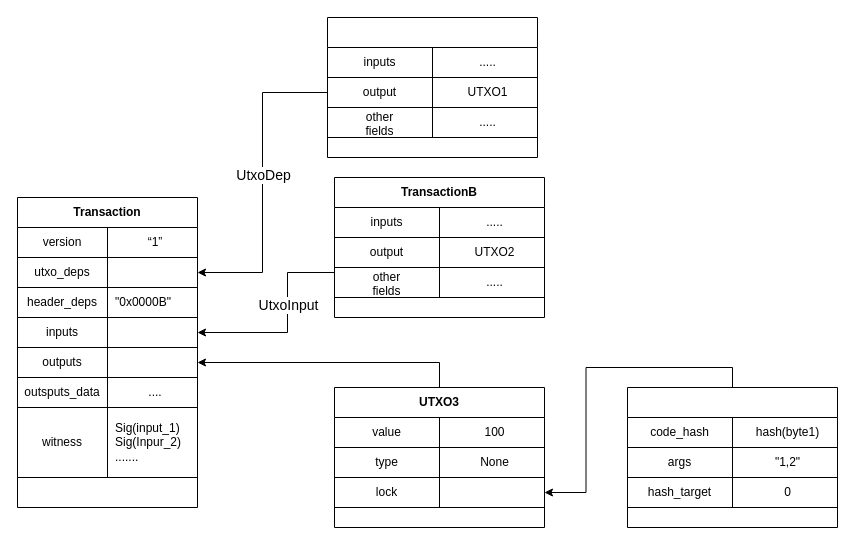
The diagram is 855 pixels wide and 545 high, and some of its shapes have lost their labels. Here are the shapes that lost their labels. From the top down, the box of each, then its label:
(326, 16, 538, 158): TransactionA
(626, 386, 838, 528): Script
